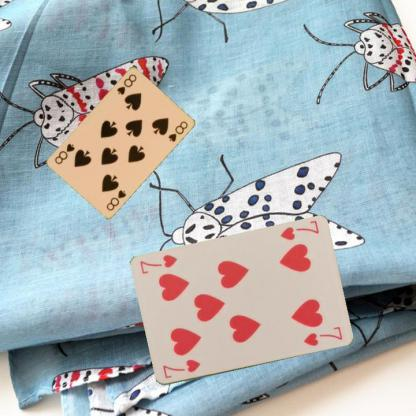7h: (277, 218, 320, 242), (160, 357, 201, 380)
8s: (114, 71, 138, 96), (104, 187, 127, 212)
